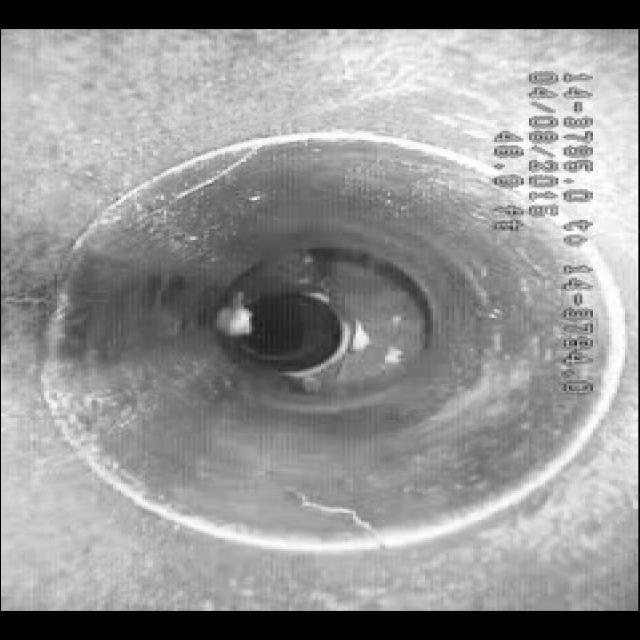Crack: (238, 480, 402, 538), (167, 148, 271, 206)
